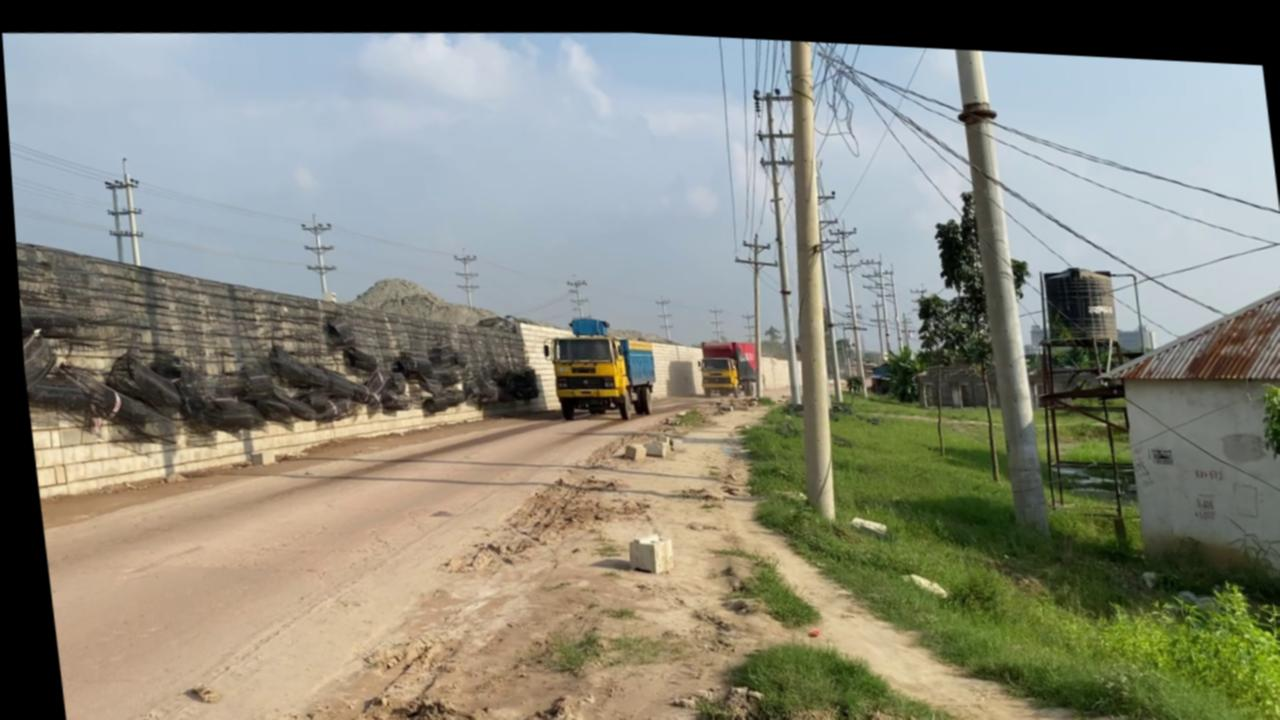Obstacle: (1023, 320, 1132, 502), (618, 525, 668, 569)
Pole: (749, 31, 862, 516), (950, 39, 1044, 530)
Rickshaw: (480, 359, 1156, 720)
Traffic-sign: (894, 173, 1049, 478)
Tree: (533, 306, 656, 419), (690, 329, 755, 393)
Upstairs: (11, 211, 569, 517)
